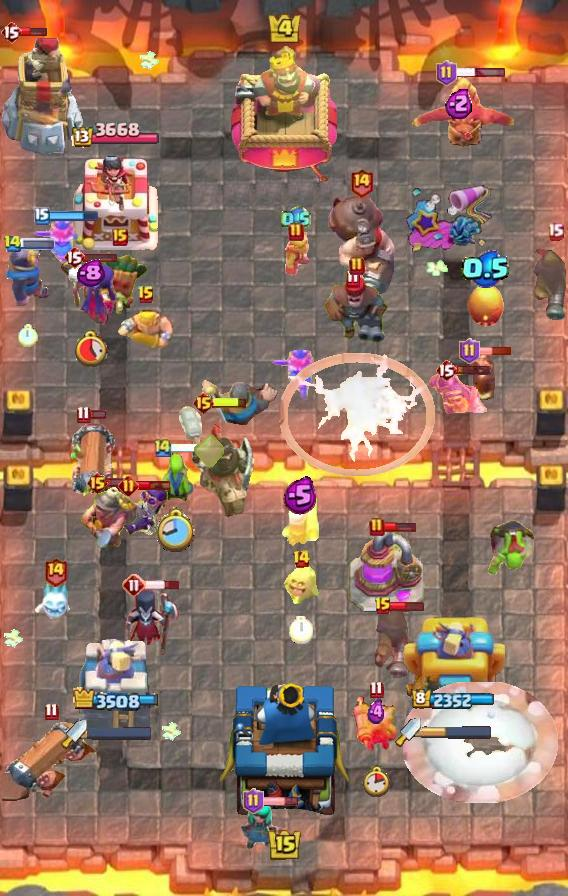bar: (47, 210, 99, 222), (454, 67, 506, 78), (212, 396, 248, 409), (144, 579, 181, 591), (455, 364, 492, 376), (136, 479, 172, 491), (82, 251, 118, 263), (19, 238, 55, 250), (390, 600, 425, 612), (262, 796, 299, 807), (383, 521, 416, 533), (12, 26, 48, 37), (477, 346, 512, 356), (171, 443, 204, 453), (106, 477, 125, 488), (88, 409, 107, 420)
bar-level: (43, 556, 68, 587), (349, 167, 374, 198), (122, 573, 146, 597), (86, 471, 109, 495), (192, 391, 215, 415), (243, 788, 264, 814), (459, 338, 480, 364), (436, 60, 457, 86), (435, 358, 457, 382), (63, 245, 85, 269), (0, 20, 22, 44), (118, 475, 139, 496), (153, 437, 173, 458), (292, 549, 311, 569), (3, 234, 22, 253), (374, 596, 392, 616), (137, 285, 155, 305), (547, 222, 564, 241), (369, 517, 385, 537), (349, 256, 365, 276), (288, 222, 304, 242), (112, 228, 128, 246), (34, 207, 50, 225), (44, 702, 59, 721), (369, 680, 384, 699), (76, 405, 91, 424)
barbarian: (117, 308, 175, 352)
bomber-evolution: (117, 482, 171, 538)
clock: (157, 507, 196, 554), (72, 329, 109, 367), (362, 765, 390, 797), (289, 616, 313, 644), (18, 324, 38, 347)
dagger-duchess-tower: (401, 611, 505, 731), (77, 637, 151, 731)
dagger-duchess-tower-bar: (421, 725, 493, 739), (87, 727, 151, 740)
dart-goblin: (91, 250, 149, 316)
elixir: (461, 250, 511, 288), (283, 476, 317, 515), (445, 87, 474, 119), (76, 259, 105, 288), (281, 206, 311, 233), (367, 699, 386, 725)
evolution-symbol: (192, 433, 224, 469)
fire-spirit: (471, 354, 497, 404)
firecracker: (353, 694, 399, 756), (279, 490, 321, 548)
goblin: (156, 452, 196, 504), (280, 232, 312, 280)
goblin-ball: (487, 517, 537, 577)
heal-spirit: (281, 560, 321, 604)
hunter: (323, 267, 391, 345)
ice-spirit: (33, 581, 78, 623)
king-tower: (220, 678, 349, 826), (231, 45, 337, 181)
knight: (197, 379, 283, 431), (6, 242, 51, 307)
knight-evolution: (428, 369, 490, 416)
miner: (78, 479, 140, 551)
musketeer: (530, 244, 568, 322), (374, 604, 412, 680)
night-witch: (122, 587, 180, 657)
phoenix-egg: (466, 284, 506, 328)
queen-tower: (67, 152, 161, 256)
rascal-girl: (240, 799, 288, 851)
tower-bar: (69, 122, 159, 150), (71, 687, 158, 712), (411, 689, 495, 711)
valkyrie: (270, 348, 318, 402), (32, 219, 80, 273)
witch: (60, 257, 120, 325)
